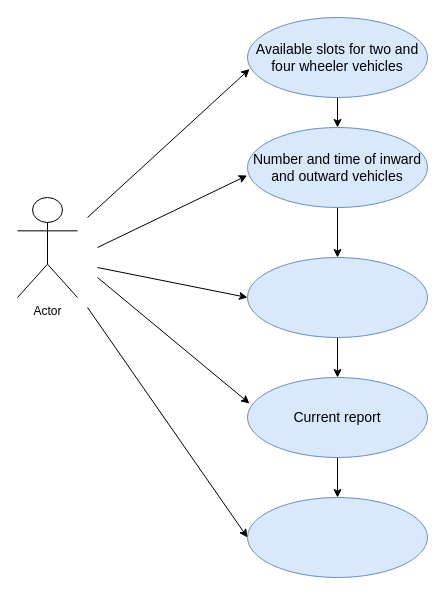
Image size: 445x595. Some labels were removed from this diagram. The shapes that lost their labels are listed below. From the top down, each one's centre as x and y in pixels, then its label:
At point (337, 297): "Total report".
At point (337, 537): "Exit".
